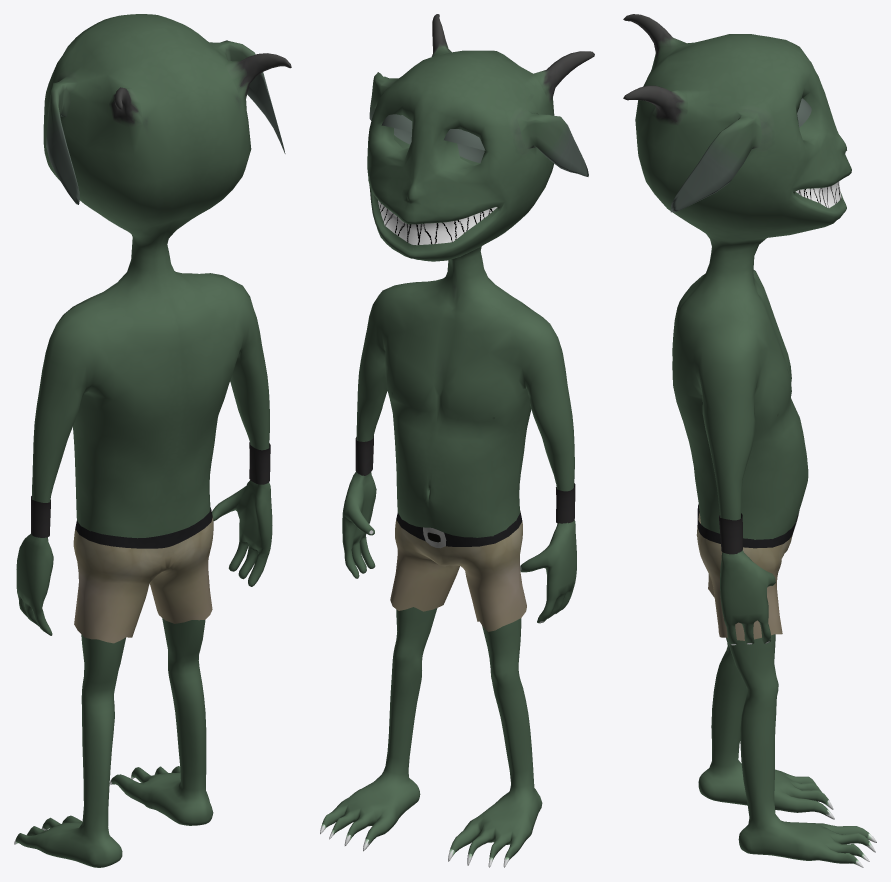
File: lwjglcharactergoblin10_000002.obj
The picture shows the model from 3 angles, left to right: view 1: azimuth 30°, elevation 25°; view 2: azimuth 150°, elevation 25°; view 3: azimuth 270°, elevation 25°; orthographic projection. The views are drawn at different scales.
Parts seen in each view (by area): view 1: Cube.002; view 2: Cube.002; view 3: Cube.002.
Boxes of the visible parts, x1,y1,x2,y2 form: Cube.002: (14,14,291,867); Cube.002: (320,14,594,867); Cube.002: (623,14,876,867).
Bounding box in the file's own units: 1.18 × 3.86 × 1.12.
